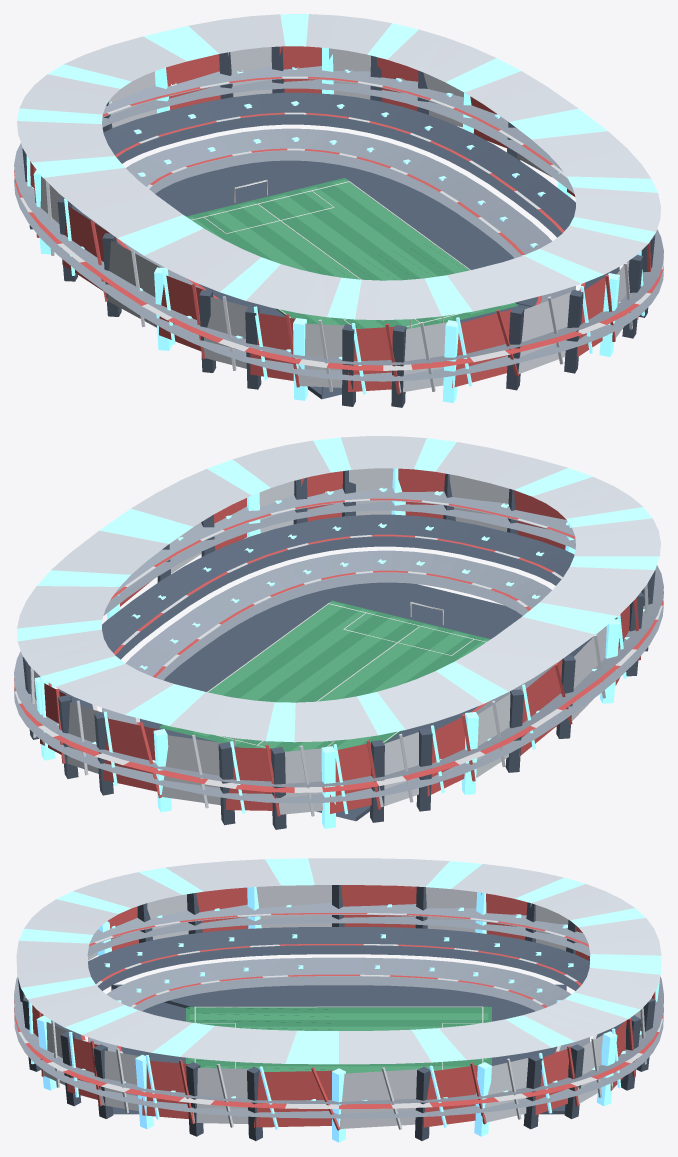
Rendered from allianz-arena.glb.
3 renders of one model, top to bottom at view 1: azimuth 30°, elevation 25°; view 2: azimuth 150°, elevation 25°; view 3: azimuth 270°, elevation 25°, orthographic. The views are drawn at different scales.
Visible parts, largest first — view 1: Allianz Arena; view 2: Allianz Arena; view 3: Allianz Arena.
Boxes of the visible parts, box(x1,y1,x2,y2) form: Allianz Arena: box(14, 14, 663, 407); Allianz Arena: box(14, 436, 663, 829); Allianz Arena: box(14, 858, 663, 1142).
Bounding box in the file's own units: 62.74 × 13.1 × 82.76.
